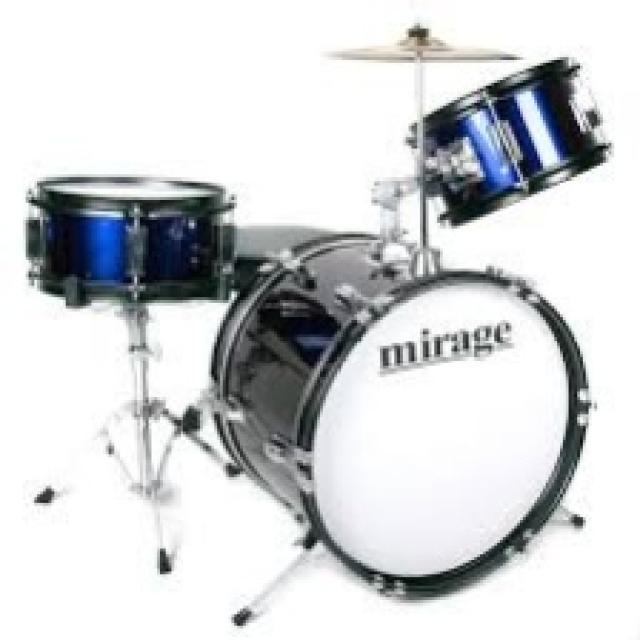drums: (24, 22, 610, 602)
